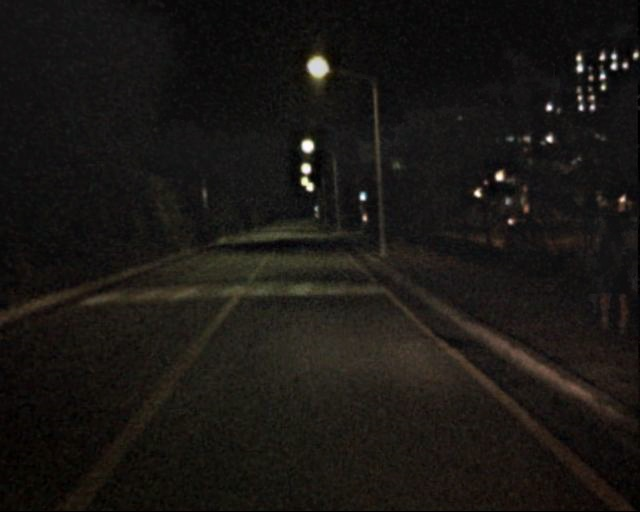person: (578, 211, 629, 335)
